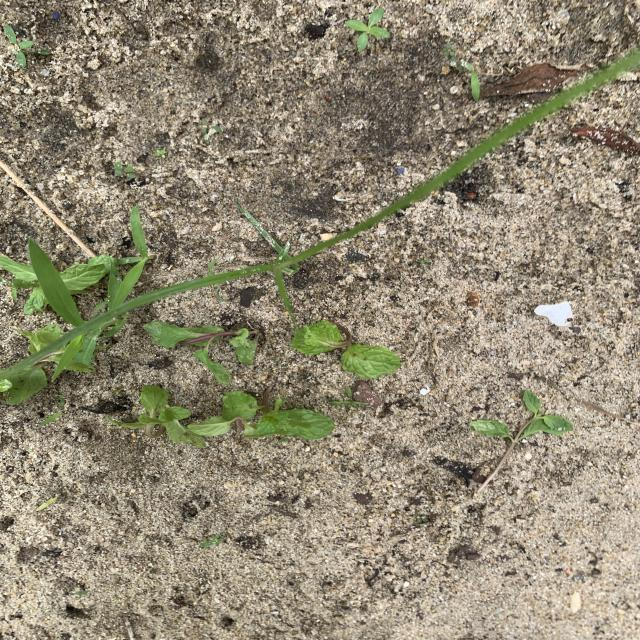crop: (469, 390, 573, 493), (188, 386, 334, 440), (143, 322, 259, 384), (291, 320, 402, 381), (109, 385, 207, 448), (0, 255, 49, 314), (4, 365, 47, 405), (59, 263, 109, 293), (17, 323, 63, 354), (66, 358, 96, 373), (39, 349, 64, 365)
weed: (0, 51, 640, 379), (29, 240, 84, 327), (105, 215, 154, 308), (345, 7, 389, 51), (3, 24, 34, 68), (54, 334, 83, 380), (76, 326, 110, 365), (98, 323, 124, 341), (114, 162, 137, 180), (471, 70, 480, 101), (154, 149, 165, 158)
